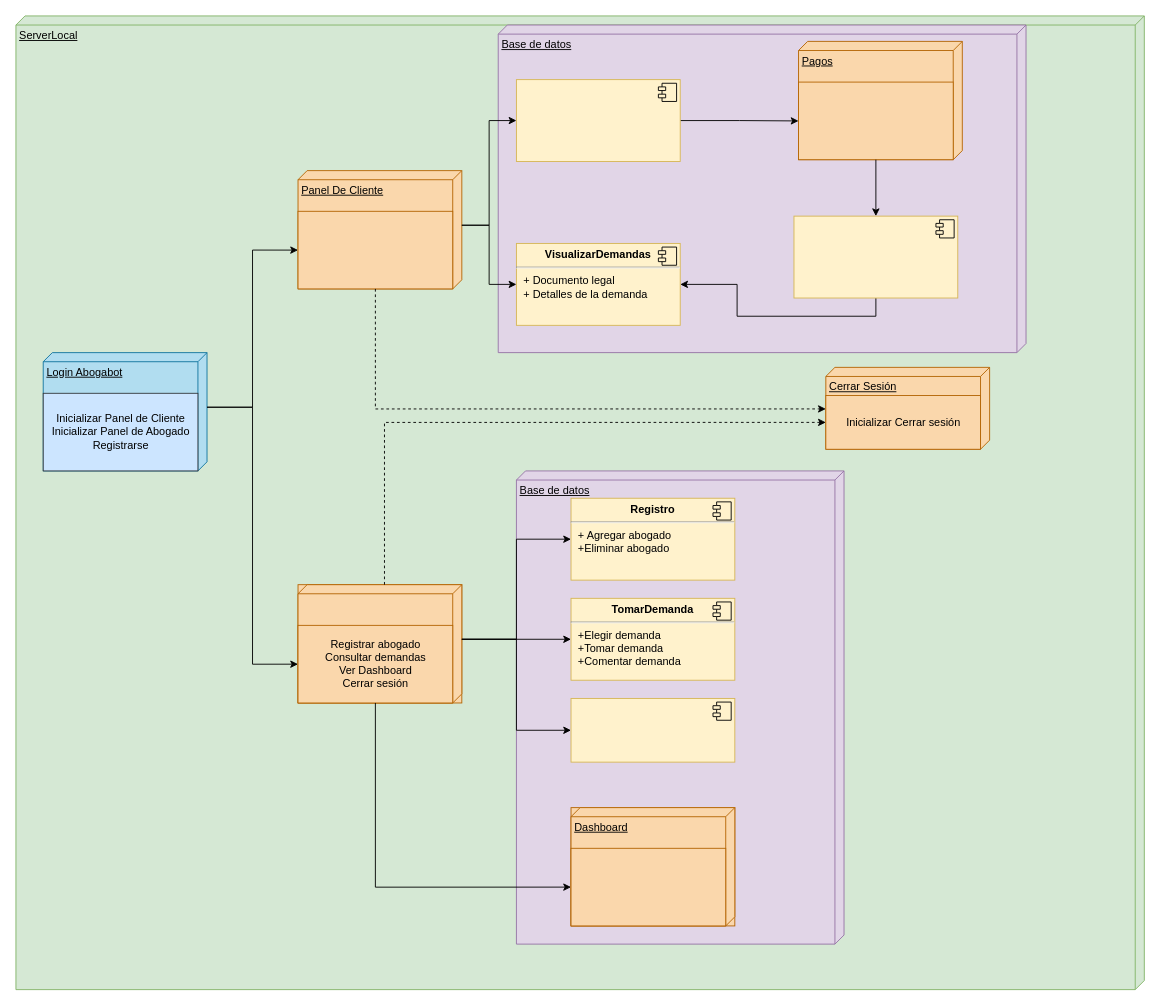
This 1160x1006 diagram has some shape labels left out. The box of each missing label's shape, as (x1, y1, x2, y2) in pixels:
Alta Demanda + Dar de alta + Visualizar pago: (793, 215, 958, 298)
Consultar +Elegir demanda +Visualizar detalles: (570, 698, 735, 762)
Crear demanda Detalles de la demanda Cerrar sesión: (297, 210, 453, 289)
CrearDemanda + Crear Demanda + Cancelar Demanda: (516, 79, 680, 162)
Inicializar el dashboard de ganancias: (570, 847, 726, 926)
Inicializar redireccionamiento a página de pagos: (798, 81, 953, 160)
Panel de Abogados: (297, 584, 462, 703)
